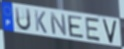E: (66, 14, 85, 39), (85, 17, 103, 43)
K: (33, 10, 48, 35)
N: (48, 12, 68, 37)
U: (14, 6, 32, 32)
V: (102, 19, 118, 44)
